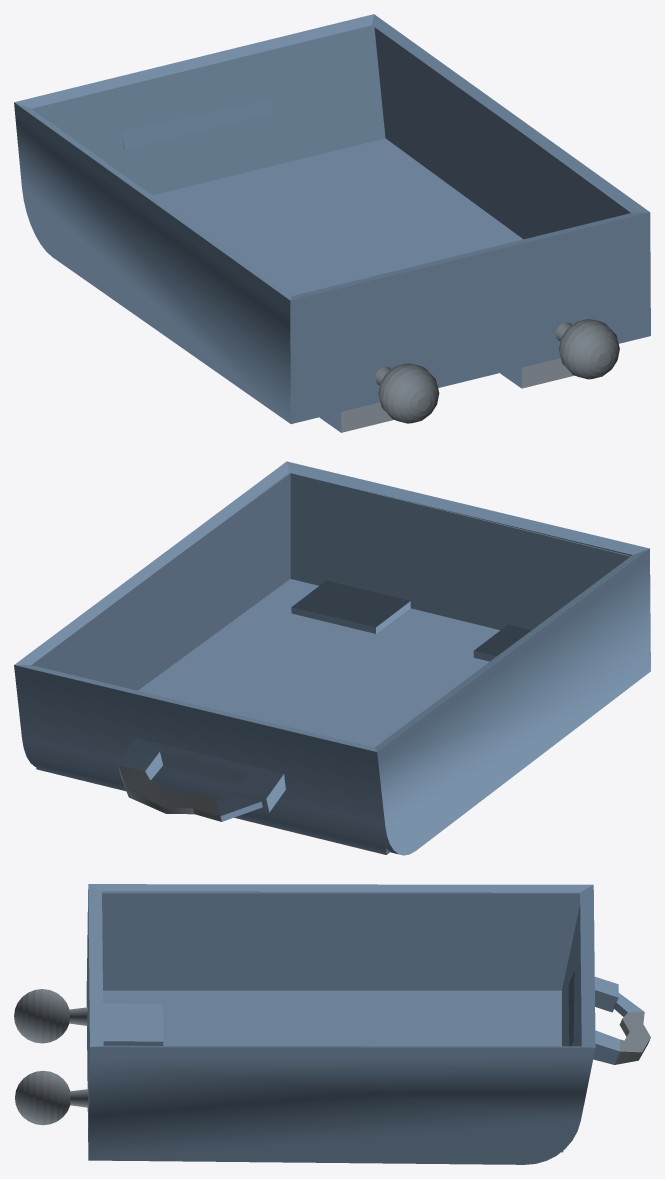
Rendered from suitcase_half1.fbx.
3 views of the same model, one above another, from view 1: azimuth 30°, elevation 25°; view 2: azimuth 150°, elevation 25°; view 3: azimuth 270°, elevation 25° (orthographic). The views are drawn at different scales.
Parts seen in each view (by area): view 1: polySurface426; view 2: polySurface426; view 3: polySurface426.
Boxes of the visible parts, x1,y1,x2,y2 form: polySurface426: [14, 14, 650, 432]; polySurface426: [14, 461, 650, 855]; polySurface426: [14, 884, 650, 1164].
Size of the model in its own units: 3.09 by 1.18 by 5.08.
